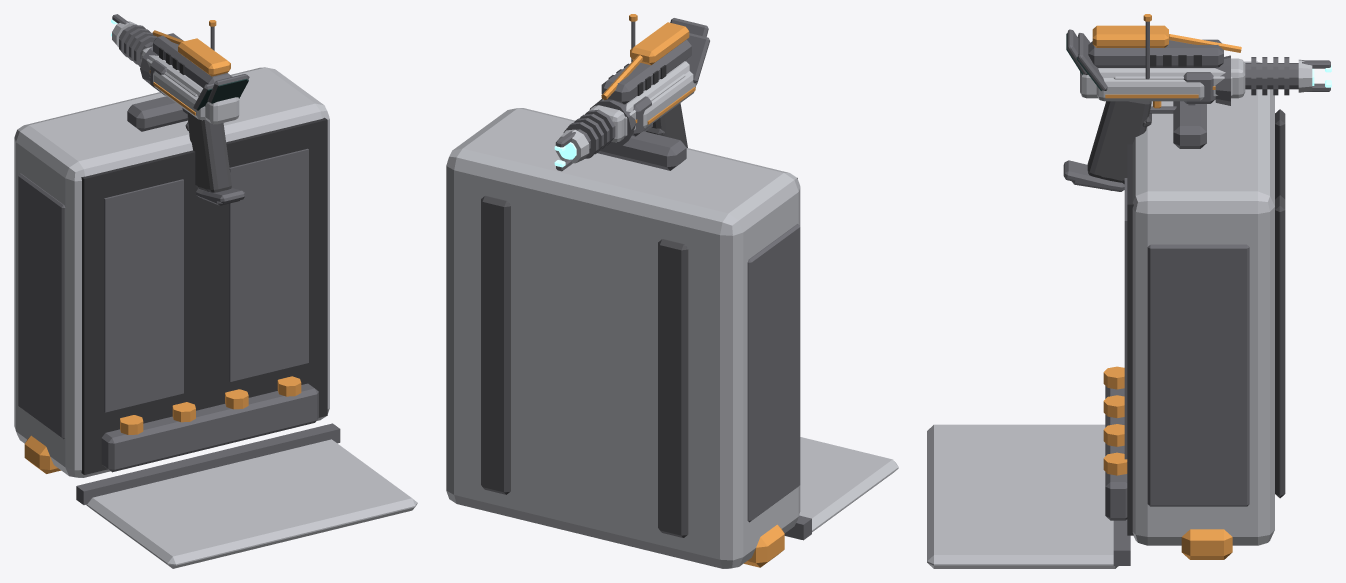
The model's file is tools.glb.
The picture shows the model from 3 angles, left to right: view 1: azimuth 30°, elevation 25°; view 2: azimuth 150°, elevation 25°; view 3: azimuth 270°, elevation 25°; orthographic projection. The views are drawn at different scales.
Parts seen in each view (by area): view 1: Pack_Body, Tool_Body, Scanner_Body, Tool_Screen; view 2: Pack_Body, Tool_Body, Scanner_Body; view 3: Pack_Body, Tool_Body, Scanner_Body.
Boxes of the visible parts, x1,y1,x2,y2 form: Pack_Body: (14, 67, 417, 568); Tool_Body: (111, 14, 248, 204); Scanner_Body: (140, 20, 249, 205); Tool_Screen: (211, 78, 247, 103); Pack_Body: (446, 108, 898, 568); Tool_Body: (554, 18, 708, 171); Scanner_Body: (589, 14, 709, 147); Pack_Body: (927, 61, 1285, 568); Tool_Body: (1063, 25, 1331, 190); Scanner_Body: (1071, 14, 1230, 191).
Bounding box in the file's own units: 0.42 × 0.646 × 0.477.
